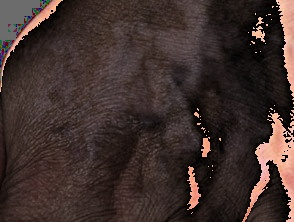vitiligo: (28, 0, 250, 182)
